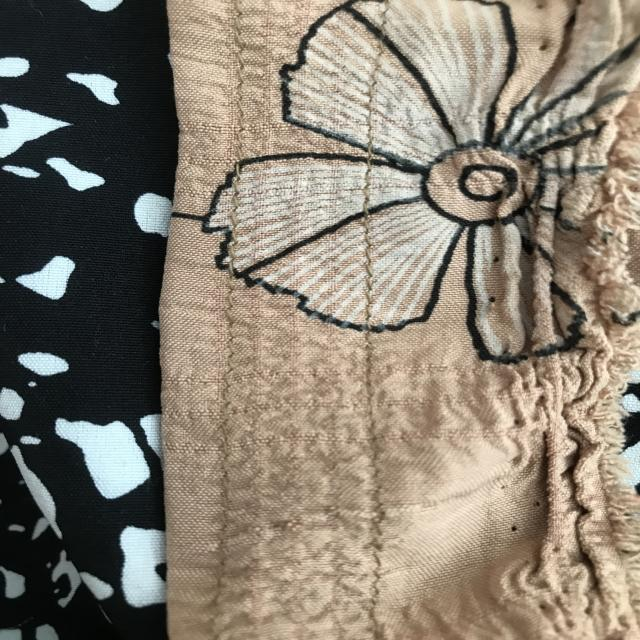good: (359, 222, 392, 312)
